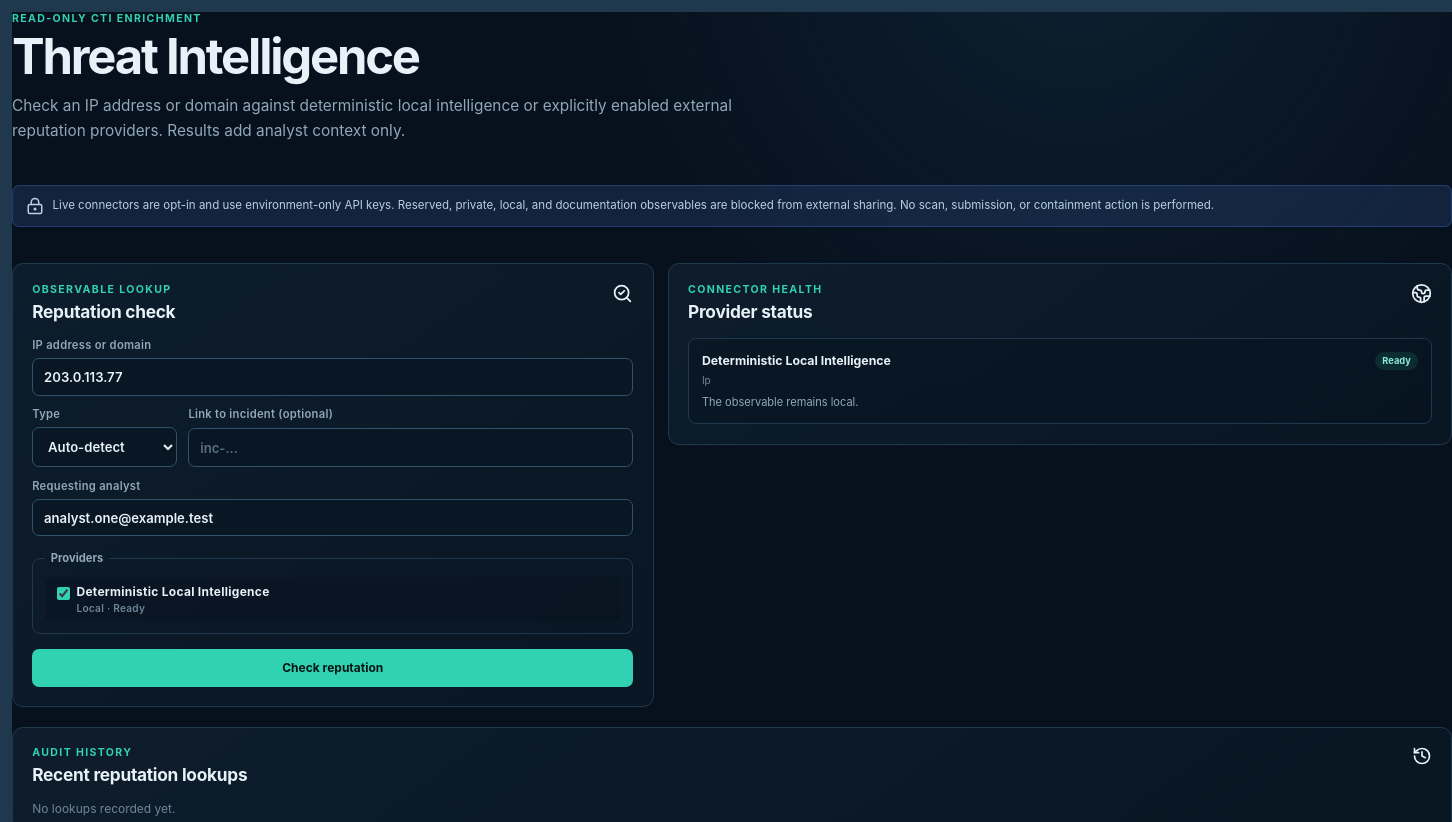
Test case: performs a deterministic local reputation lookup without live connectors
Expected: the heading "Threat Intelligence" is shown, x1=12 y1=27 x2=419 y2=86
Expected: the text "Deterministic Local Intelligence" is shown 2 times, x1=76 y1=584 x2=270 y2=599; x1=702 y1=353 x2=891 y2=368
Click the button "Check reputation".
click(333, 668)  # box x1=32 y1=649 x2=633 y2=687
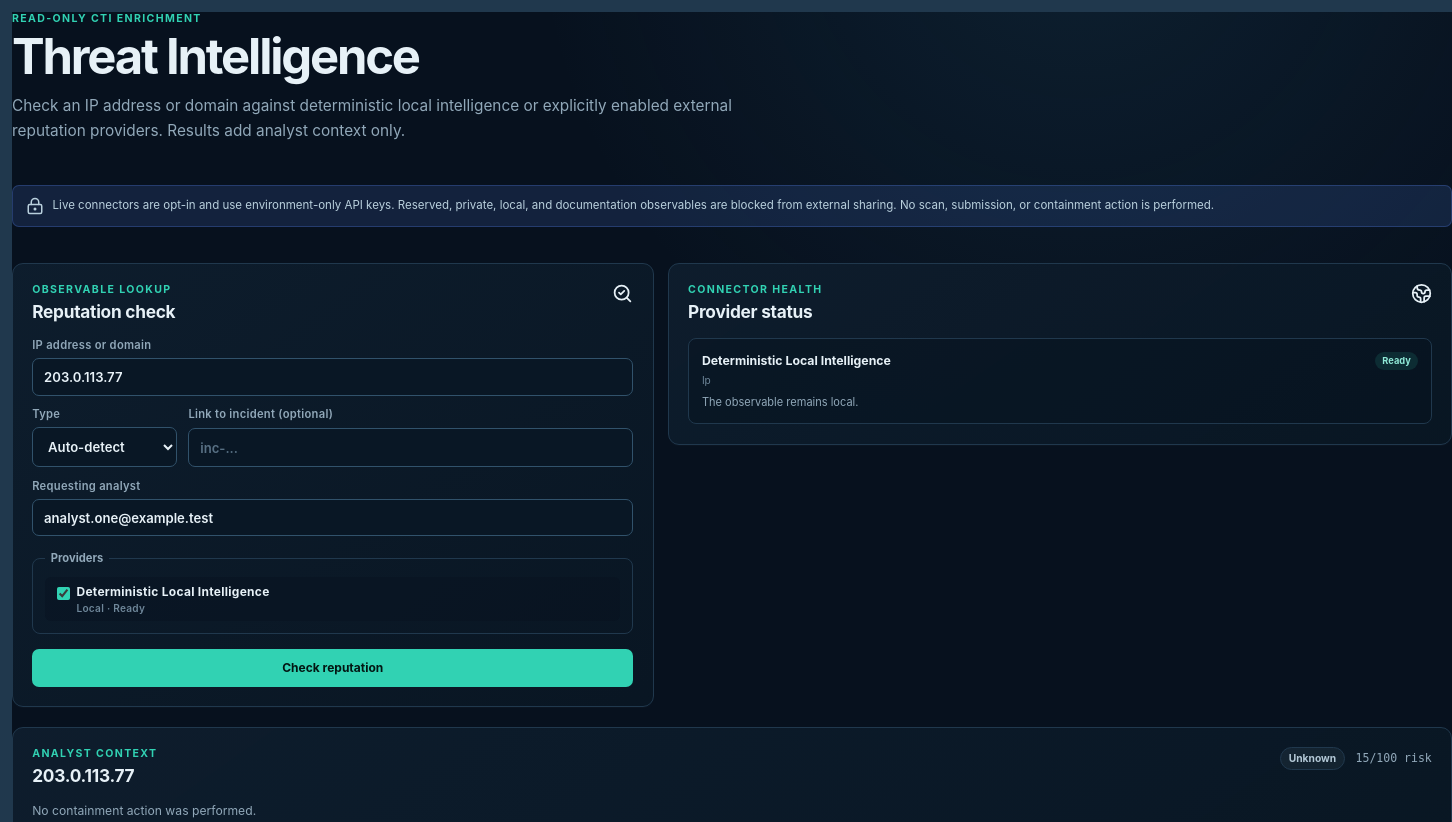
Result: the text "15/100 risk" is shown at x1=1356 y1=751 x2=1432 y2=765
Result: the text "No containment action was performed." is shown at x1=32 y1=803 x2=256 y2=818
